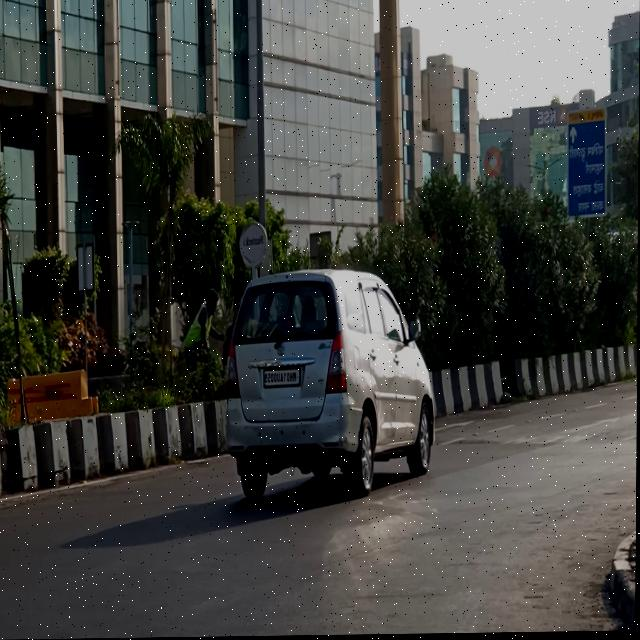plate: (261, 365, 303, 389)
